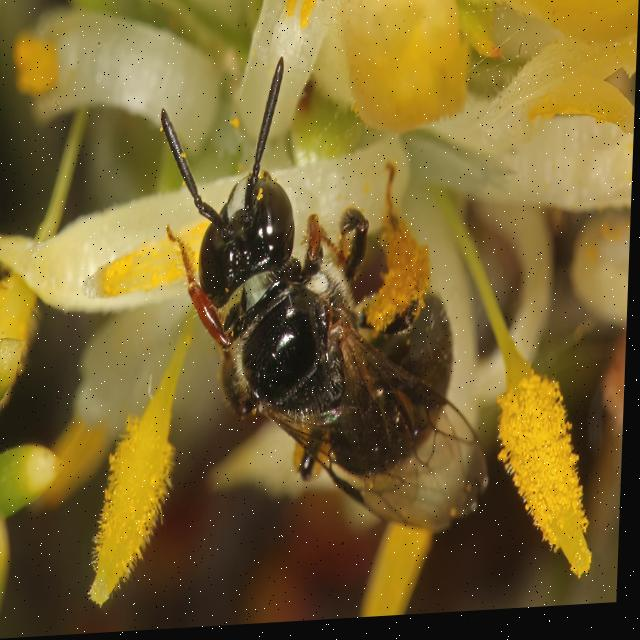Braunsapis: (128, 66, 500, 563)
